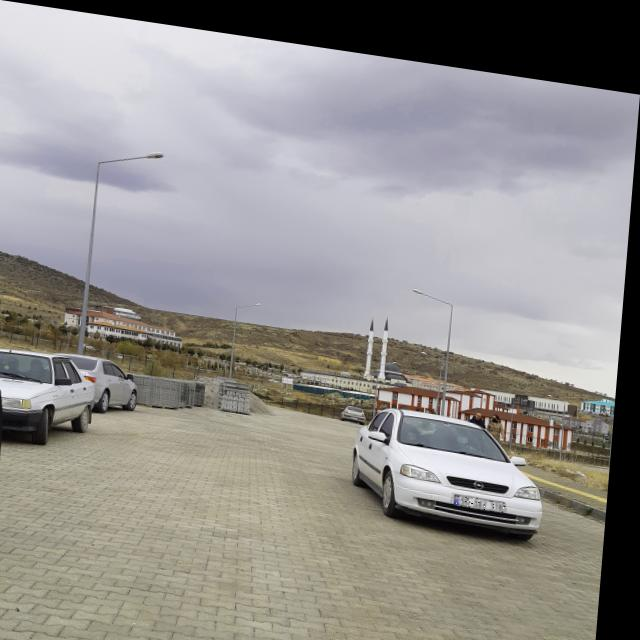license_plate: (461, 479, 513, 496)
